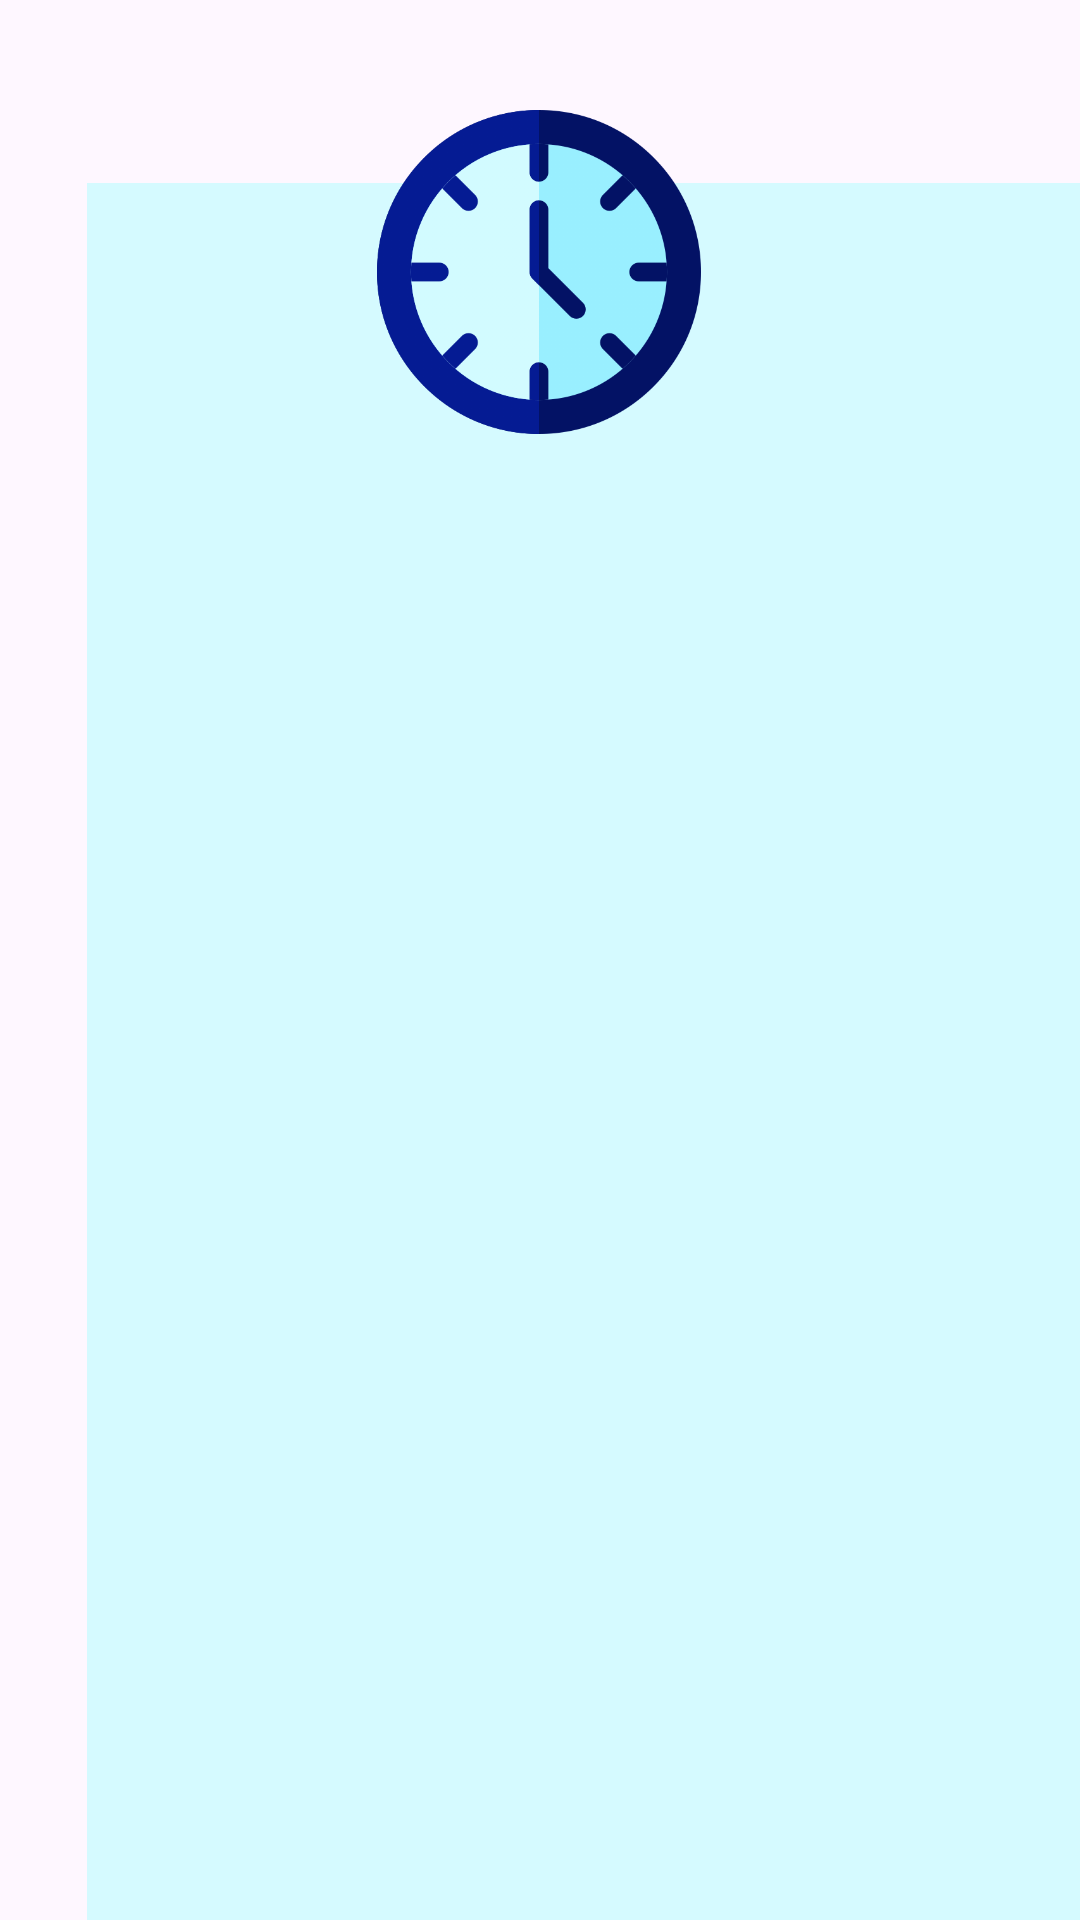

Icon bounding boxes for this 1080 × 1920 phone screenshot, format (x1, y1, x2, y2):
Relógio: (377, 80, 701, 434)
